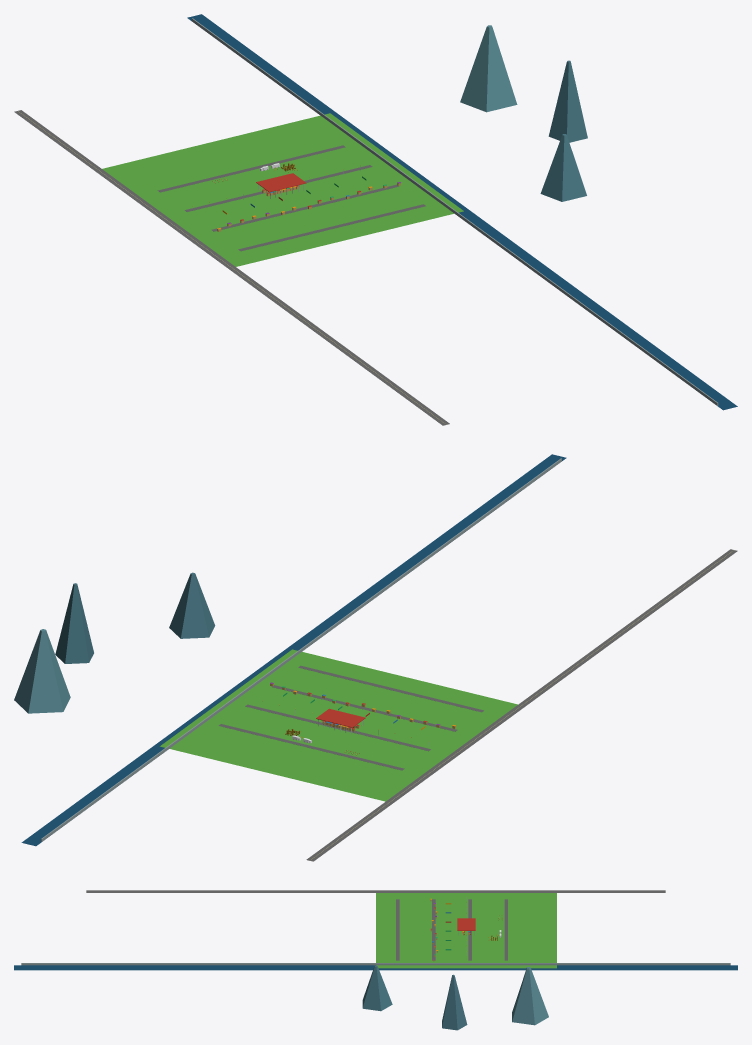
The model's file is sector_r1_c3.glb.
3 renders of one model, top to bottom at view 1: azimuth 30°, elevation 25°; view 2: azimuth 150°, elevation 25°; view 3: azimuth 270°, elevation 25°, orthographic. The views are drawn at different scales.
Parts seen in each view (by area): view 1: GROUND_r1_c3, WATER_EastOcean, ROAD_District_NS_2, MOUNTAIN_2, WALL_Boundary_E, MOUNTAIN_1, MOUNTAIN_0; view 2: GROUND_r1_c3, WATER_EastOcean, ROAD_District_NS_2, MOUNTAIN_2, WALL_Boundary_E, MOUNTAIN_1, MOUNTAIN_0; view 3: GROUND_r1_c3, WATER_EastOcean, WALL_Boundary_E, ROAD_District_NS_2, MOUNTAIN_2, MOUNTAIN_1, MOUNTAIN_0.
Boxes of the visible parts, x1,y1,x2,y2 form: GROUND_r1_c3: (102, 113, 463, 266); WATER_EastOcean: (187, 14, 737, 410); ROAD_District_NS_2: (14, 110, 449, 425); MOUNTAIN_2: (460, 25, 517, 112); WALL_Boundary_E: (192, 18, 718, 405); MOUNTAIN_1: (548, 60, 587, 142); MOUNTAIN_0: (540, 134, 586, 201); GROUND_r1_c3: (160, 649, 517, 801); WATER_EastOcean: (21, 454, 566, 846); ROAD_District_NS_2: (306, 549, 737, 861); MOUNTAIN_2: (14, 629, 70, 713); WALL_Boundary_E: (41, 458, 561, 841); MOUNTAIN_1: (55, 583, 93, 663); MOUNTAIN_0: (169, 572, 215, 638); GROUND_r1_c3: (376, 893, 556, 968); WATER_EastOcean: (14, 965, 737, 970); WALL_Boundary_E: (21, 963, 730, 965); ROAD_District_NS_2: (86, 890, 665, 892); MOUNTAIN_2: (512, 967, 548, 1025); MOUNTAIN_1: (442, 974, 467, 1030); MOUNTAIN_0: (362, 965, 392, 1011).
Size of the model in its own units: 447 by 75.46 by 1000.
